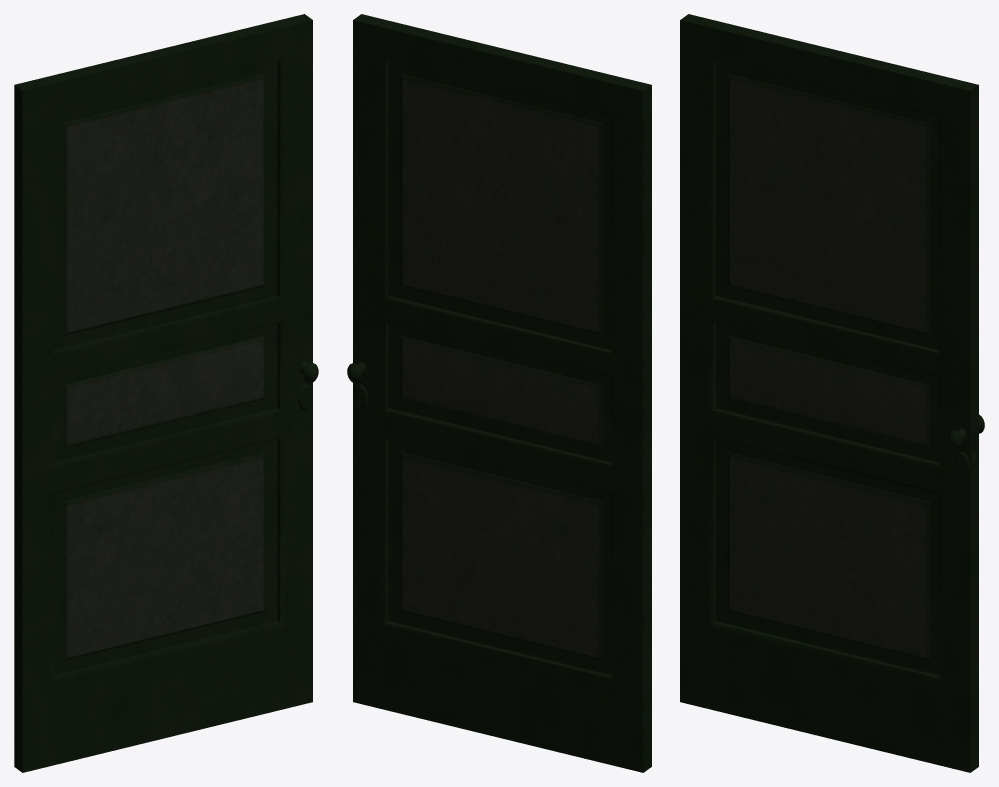
The model's file is Mod_Door.fbx.
3 views of the same model, side by side, from view 1: azimuth 30°, elevation 25°; view 2: azimuth 150°, elevation 25°; view 3: azimuth 330°, elevation 25° (orthographic).
Parts seen in each view (by area): view 1: polySurface3678; view 2: polySurface3678; view 3: polySurface3678.
Boxes of the visible parts, x1,y1,x2,y2 form: polySurface3678: (14,14,318,772); polySurface3678: (347,14,651,772); polySurface3678: (680,14,984,772).
Bounding box in the file's own units: 99.91 × 224 × 16.71.
1 material, 1 textured.
